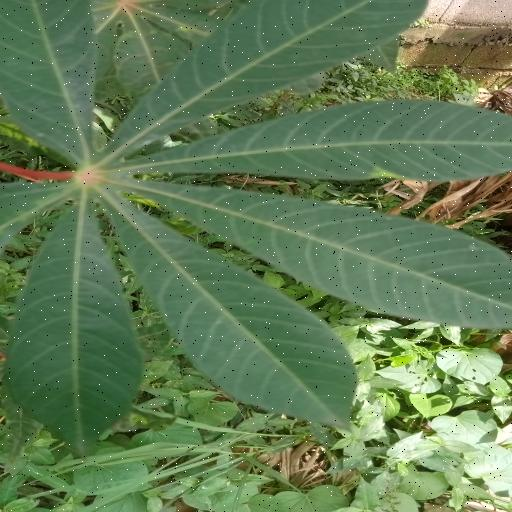Cassava_Healthy: (0, 0, 512, 449)
